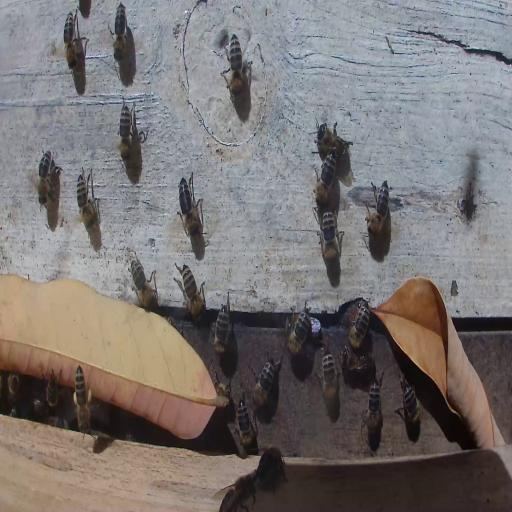bee: (314, 121, 352, 170), (129, 250, 160, 310), (174, 264, 205, 320), (75, 170, 101, 236), (177, 171, 202, 237), (72, 364, 94, 434), (319, 206, 343, 270), (365, 178, 390, 239), (253, 445, 286, 490), (399, 376, 424, 435), (250, 356, 276, 411), (225, 32, 246, 98), (217, 474, 255, 510), (234, 396, 256, 456), (313, 151, 337, 205), (321, 349, 339, 421), (341, 349, 378, 384), (286, 304, 311, 355), (63, 9, 82, 72), (117, 101, 136, 164), (344, 302, 370, 348), (364, 378, 383, 438), (112, 2, 129, 64), (213, 302, 231, 358), (37, 146, 53, 208), (7, 370, 20, 410), (46, 374, 59, 408), (32, 396, 47, 419)
